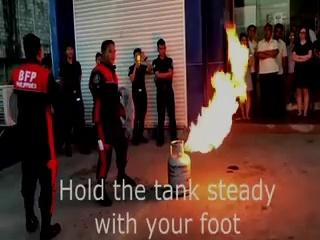Fire: (178, 53, 238, 156)
